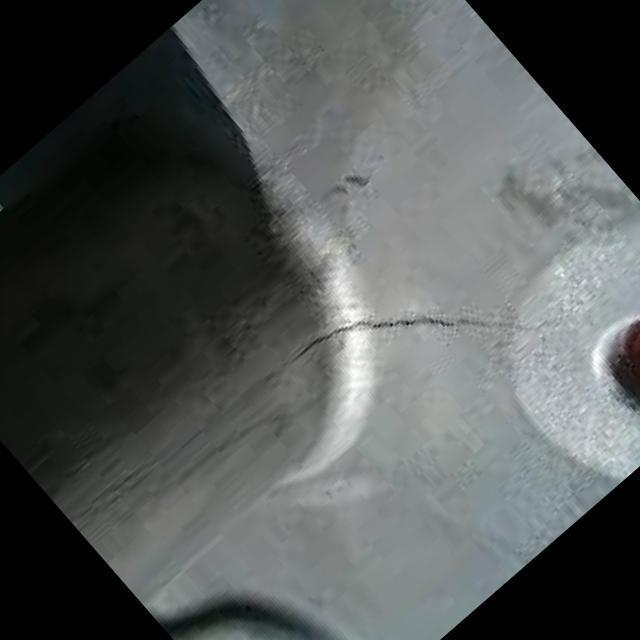defect: (286, 310, 559, 365)
